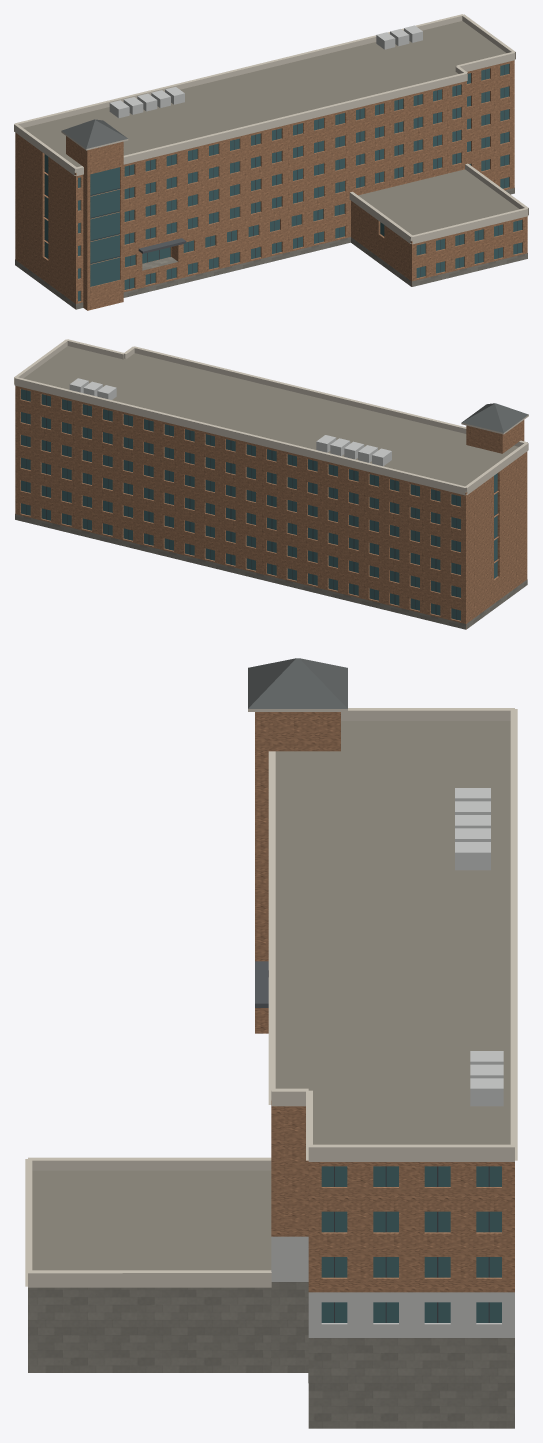
3 renders of one model, top to bottom at view 1: azimuth 30°, elevation 25°; view 2: azimuth 150°, elevation 25°; view 3: azimuth 270°, elevation 25°, orthographic. The views are drawn at different scales.
Parts seen in each view (by area): view 1: education__wall, education__roof, education__glass, education__trim, education__base, education__roofMetal, education__frame, education__roofAccent; view 2: education__wall, education__roof, education__glass, education__trim, education__base, education__roofMetal, education__frame, education__roofAccent; view 3: education__roof, education__base, education__wall, education__trim, education__stoneBase, education__glass, education__roofMetal, education__roofAccent.
Boxes of the visible parts, <box> form: education__wall: <box>15,60,527,310</box>; education__roof: <box>23,21,519,241</box>; education__glass: <box>44,64,522,301</box>; education__trim: <box>14,14,528,244</box>; education__base: <box>15,188,527,309</box>; education__roofMetal: <box>109,25,422,118</box>; education__frame: <box>44,65,517,288</box>; education__roofAccent: <box>61,119,127,148</box>; education__wall: <box>15,385,527,629</box>; education__roof: <box>23,346,518,492</box>; education__glass: <box>21,389,497,620</box>; education__trim: <box>14,339,528,495</box>; education__base: <box>15,514,527,629</box>; education__roofMetal: <box>69,378,391,466</box>; education__frame: <box>26,390,497,619</box>; education__roofAccent: <box>462,403,528,432</box>; education__roof: <box>32,721,510,1270</box>; education__base: <box>28,1282,514,1428</box>; education__wall: <box>255,712,514,1292</box>; education__trim: <box>25,708,517,1287</box>; education__stoneBase: <box>271,1236,514,1337</box>; education__glass: <box>321,1166,501,1322</box>; education__roofMetal: <box>455,788,503,1106</box>; education__roofAccent: <box>248,658,347,708</box>.
Size of the model in its own units: 74.82 by 28.42 by 35.42.
11 materials, 2 textured.
